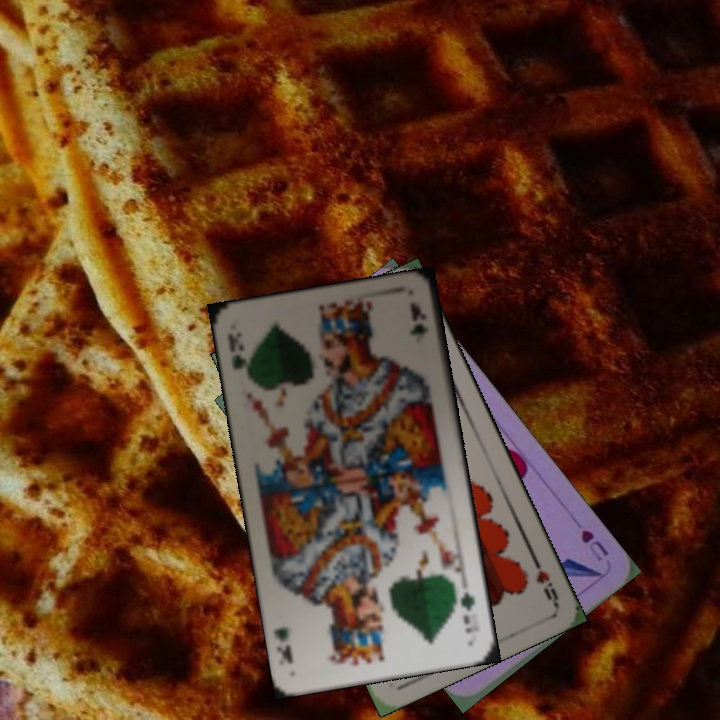GK: (456, 588, 482, 636), (223, 329, 250, 373)
H9: (527, 551, 562, 607)
HU: (577, 526, 612, 565)
